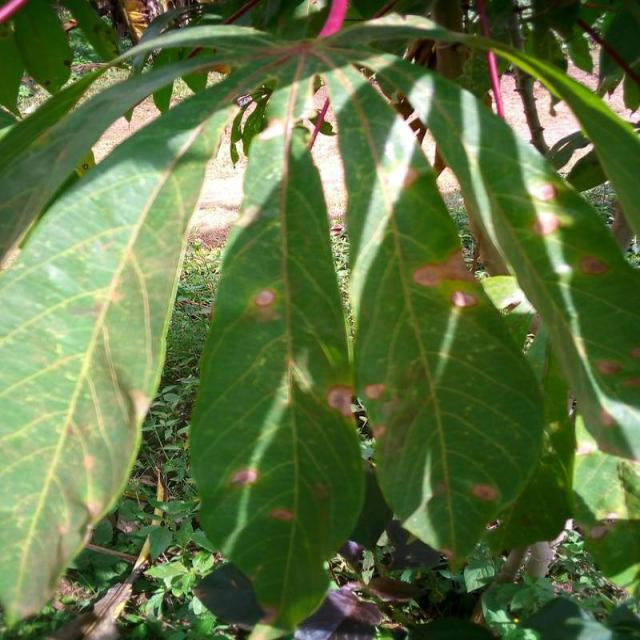cassava leaf: (0, 4, 638, 634), (0, 73, 234, 628), (324, 61, 546, 575), (188, 120, 366, 634)
